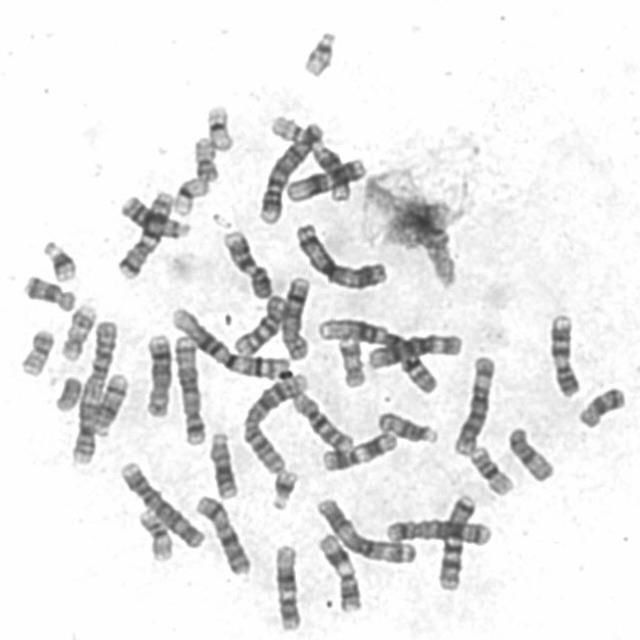A1: (312, 311, 441, 396), (167, 301, 294, 382)
A2: (66, 314, 120, 466), (236, 366, 310, 476)
A3: (311, 492, 419, 565), (289, 216, 389, 291)
B4: (115, 455, 207, 551), (252, 117, 325, 226)
B5: (168, 330, 208, 447), (381, 514, 493, 547)
C10: (287, 388, 355, 452), (228, 289, 288, 358)
C11: (313, 528, 363, 613), (317, 426, 400, 472)
C12: (282, 151, 368, 203), (269, 539, 304, 632)
C6: (448, 350, 498, 457), (363, 328, 463, 370)
C7: (110, 184, 174, 280), (432, 488, 478, 592)
C8: (277, 270, 313, 362), (140, 328, 174, 420)
C9: (216, 225, 274, 300), (543, 307, 583, 399)
D13: (115, 190, 192, 239), (203, 426, 240, 499)
D14: (306, 138, 353, 209), (88, 367, 130, 438)
D15: (502, 421, 556, 484), (372, 406, 439, 445)
E16: (466, 440, 516, 497), (132, 503, 174, 562)
E17: (55, 296, 99, 363), (333, 332, 368, 389)
E18: (17, 268, 78, 314), (572, 380, 628, 430)
F19: (168, 170, 212, 218), (200, 98, 237, 152)
F20: (15, 322, 57, 378), (188, 130, 222, 182)
G21: (36, 234, 79, 284), (265, 464, 300, 512)
G22: (297, 23, 339, 78), (265, 109, 306, 145)
X: (190, 490, 252, 577)
Y: (49, 370, 84, 412)
